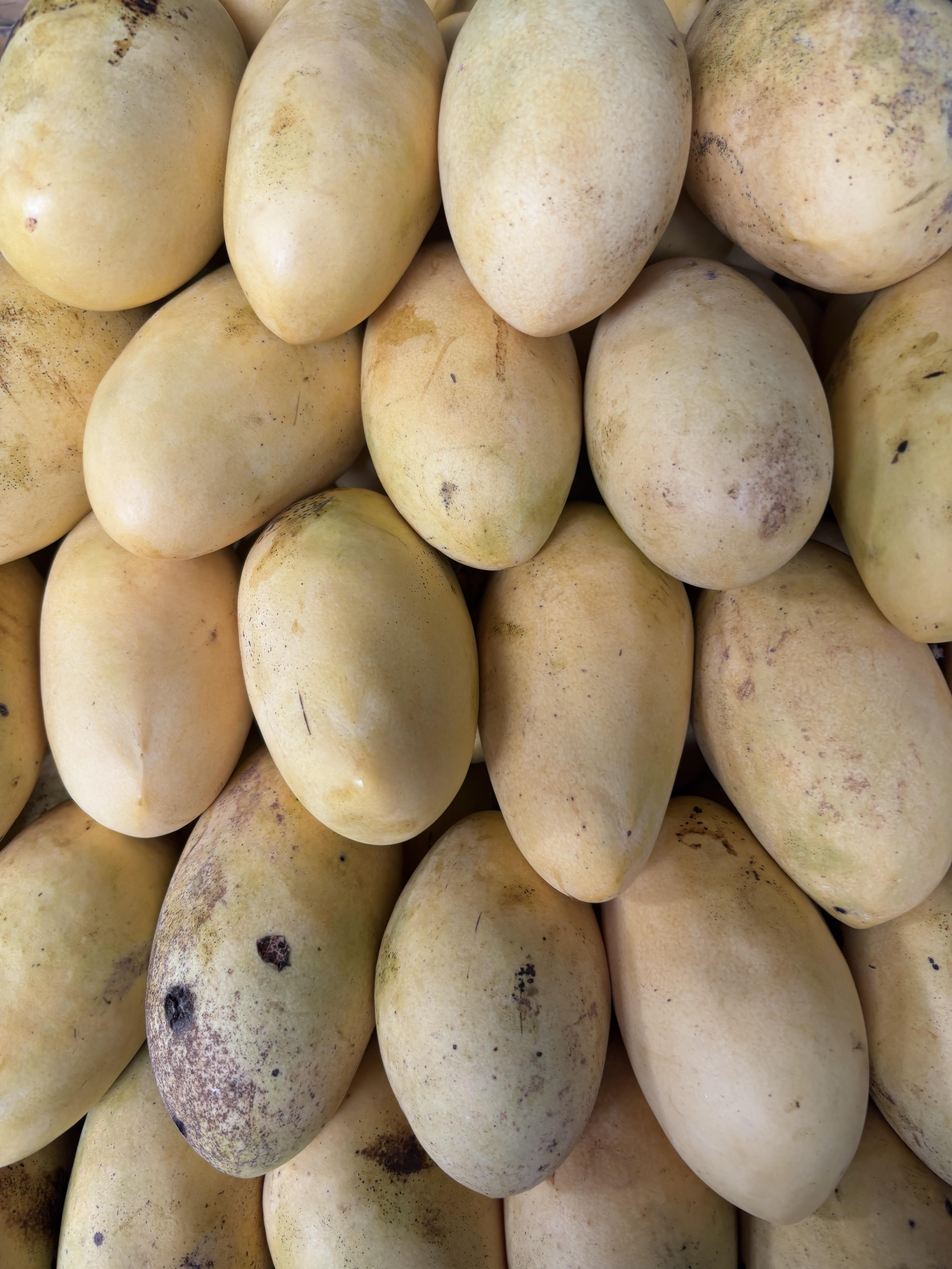mango: (238, 488, 478, 845), (585, 257, 833, 589)
occluded: (603, 797, 868, 1223), (146, 746, 402, 1178), (693, 541, 952, 928), (375, 811, 610, 1198), (478, 503, 693, 902), (439, 0, 691, 337), (84, 265, 364, 559), (686, 0, 952, 292), (0, 0, 247, 311), (224, 0, 446, 344), (362, 241, 582, 569), (40, 513, 252, 837), (0, 802, 178, 1165), (504, 1022, 737, 1269), (264, 1033, 506, 1269), (826, 248, 952, 644), (58, 1043, 273, 1269), (0, 257, 150, 563), (740, 1100, 952, 1269), (843, 869, 952, 1183), (0, 558, 46, 838), (649, 189, 732, 263), (220, 0, 288, 57), (664, 0, 706, 36), (438, 13, 468, 61), (426, 0, 456, 23)
